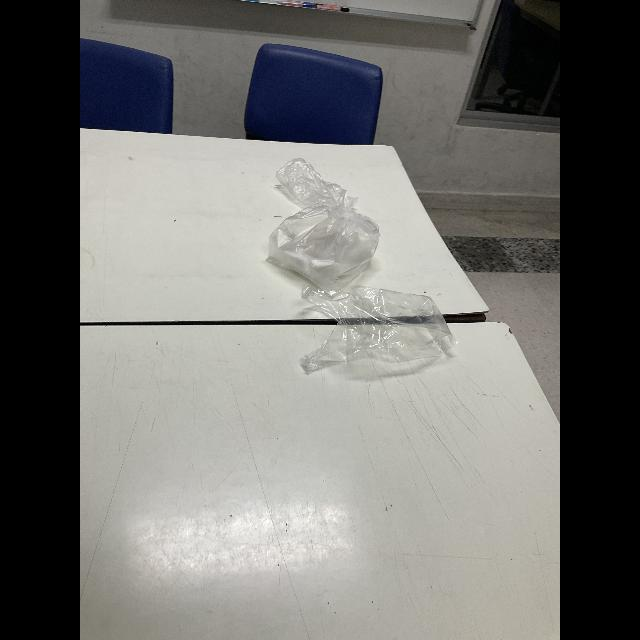plastic_bag: (272, 274, 448, 386), (264, 202, 386, 286)
scrap_plastic: (253, 152, 367, 214)
